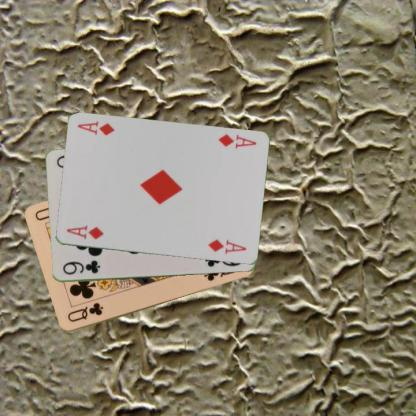9c: (60, 258, 101, 276)
Ad: (64, 223, 104, 242), (215, 132, 257, 150)
Qc: (64, 300, 104, 323)
